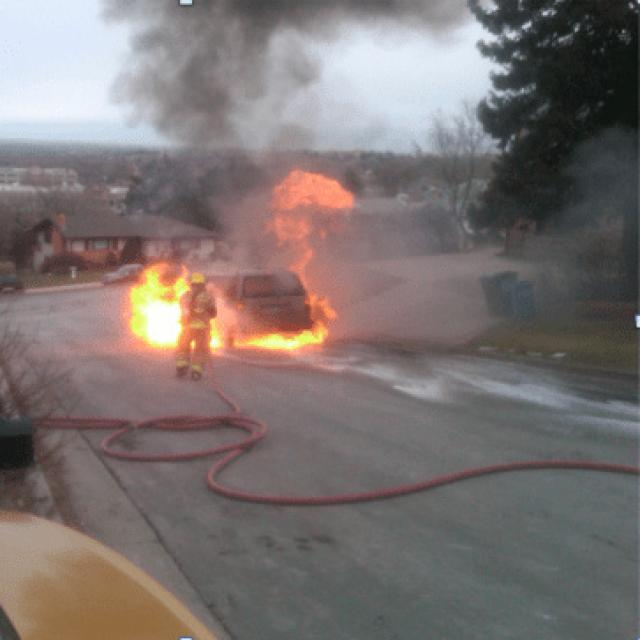fire: (266, 169, 354, 323), (130, 268, 188, 350), (235, 325, 325, 354)
